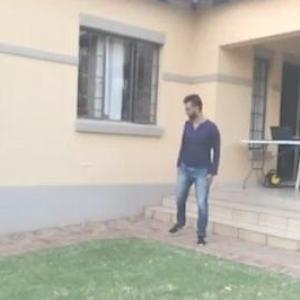follow: (170, 85, 219, 254)
